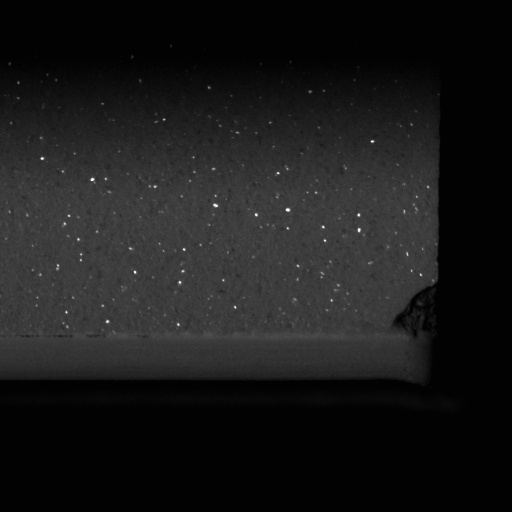bengque: (391, 286, 438, 342)
